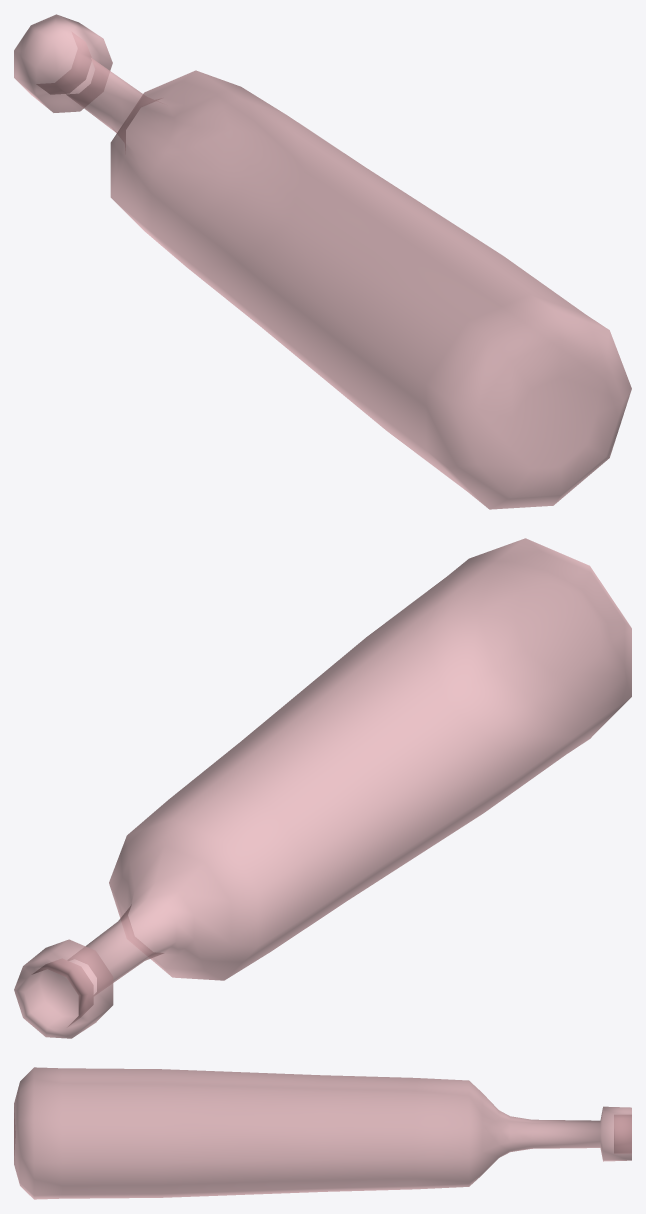
The model's file is Bottle_Red.glb.
The picture shows the model from 3 angles, top to bottom: view 1: azimuth 30°, elevation 25°; view 2: azimuth 150°, elevation 25°; view 3: azimuth 270°, elevation 25°; orthographic projection. The views are drawn at different scales.
Parts seen in each view (by area): view 1: Bottle_Red; view 2: Bottle_Red; view 3: Bottle_Red.
Part boxes in pixels (left/top/right/bottom): Bottle_Red: left=14, top=14, right=631, bottom=509; Bottle_Red: left=14, top=538, right=631, bottom=1038; Bottle_Red: left=14, top=1067, right=631, bottom=1199.
Size of the model in its own units: 0.3151 by 0.32 by 1.49.
